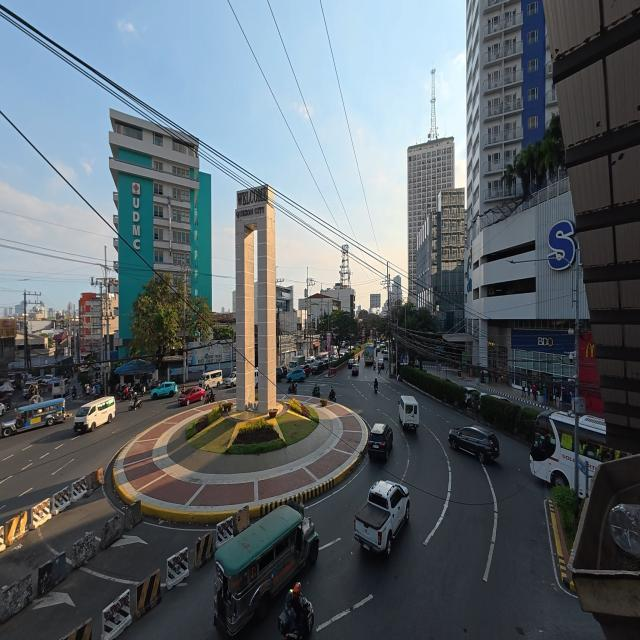Jeepneys: (214, 505, 319, 634), (2, 399, 66, 436)
bus: (530, 412, 574, 488), (364, 345, 374, 365)
car: (449, 425, 499, 463), (368, 423, 393, 460), (179, 386, 205, 405), (151, 381, 177, 399), (465, 387, 486, 407), (23, 381, 41, 397), (287, 367, 306, 382), (224, 370, 237, 388), (490, 394, 512, 403), (311, 360, 324, 374), (276, 366, 288, 381), (42, 375, 54, 389), (301, 363, 310, 376), (306, 356, 316, 366), (352, 363, 359, 375), (322, 357, 329, 369), (0, 403, 6, 415), (382, 349, 388, 360), (378, 358, 384, 368), (348, 359, 354, 369), (380, 343, 386, 351)
motorcycle: (279, 597, 314, 639), (128, 397, 142, 410), (204, 390, 215, 403), (120, 390, 132, 401), (288, 383, 297, 394), (312, 386, 320, 397), (329, 390, 336, 402), (72, 387, 76, 400), (374, 386, 378, 394)
trucks: (355, 480, 409, 556), (289, 356, 304, 371)
vans: (74, 397, 115, 431), (399, 396, 418, 429), (199, 370, 223, 389), (50, 378, 68, 398)
